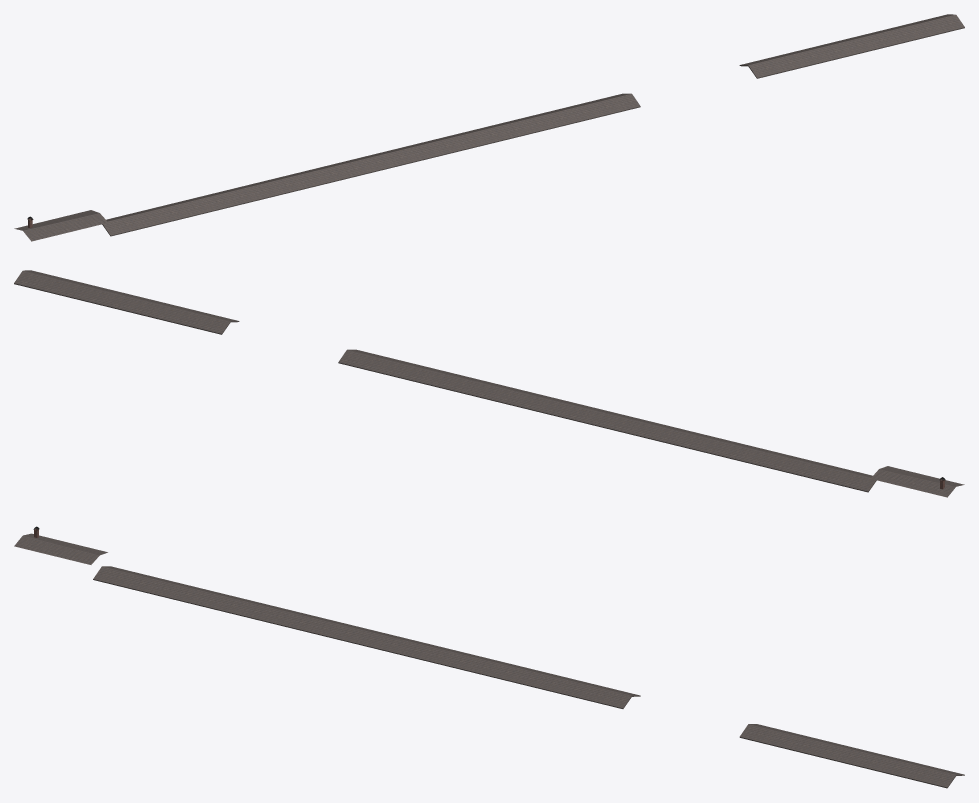
File: UpdatedRoof-v1.glb
3 views of the same model, one above another, from view 1: azimuth 30°, elevation 25°; view 2: azimuth 150°, elevation 25°; view 3: azimuth 330°, elevation 25° (orthographic).
Visible parts, largest first — view 1: Roof.001; view 2: Roof.001; view 3: Roof.001.
Boxes of the visible parts, left/top/right/bottom form: Roof.001: left=14, top=14, right=964, bottom=241; Roof.001: left=14, top=270, right=964, bottom=497; Roof.001: left=14, top=526, right=964, bottom=788.
Size of the model in its own units: 282 by 8.02 by 9.15.
Materials: 3 (2 with a texture image).
